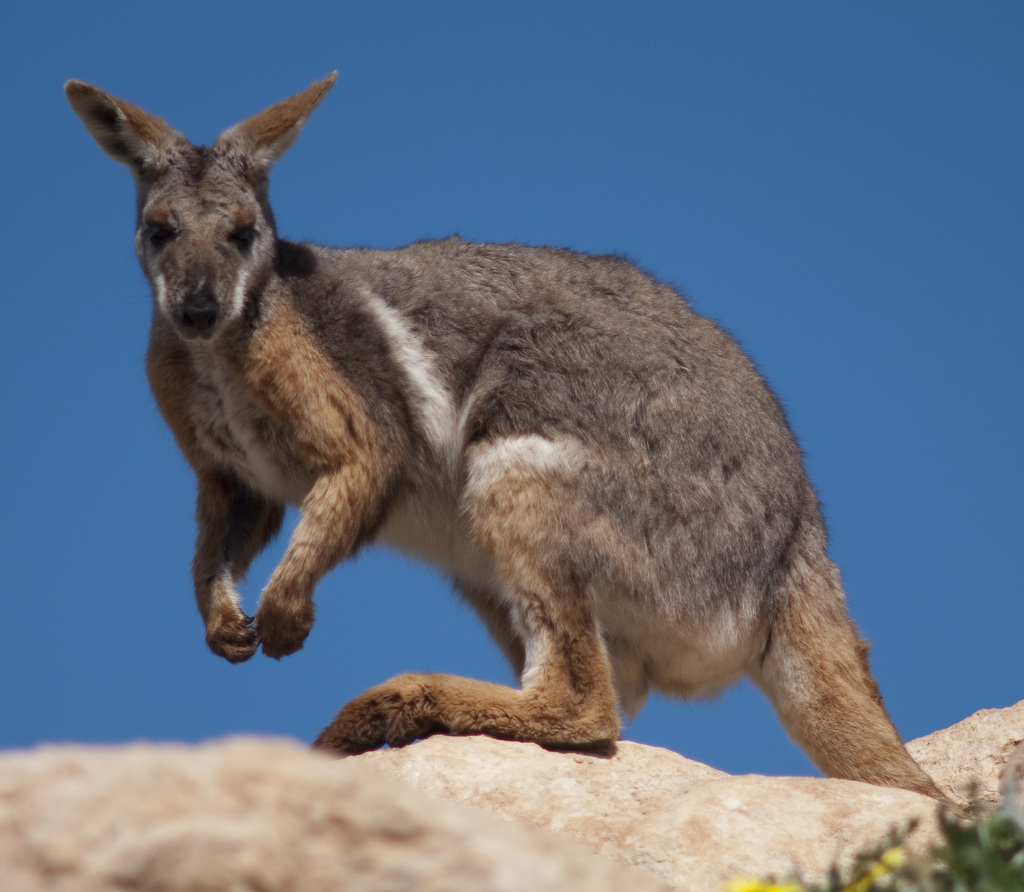kangaroo: (63, 69, 962, 809)
